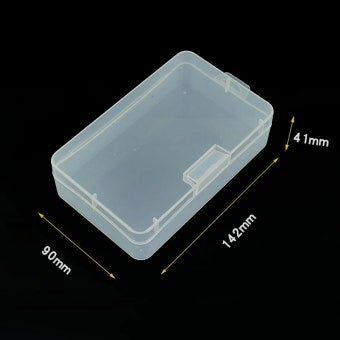plastic: (56, 54, 231, 157)
